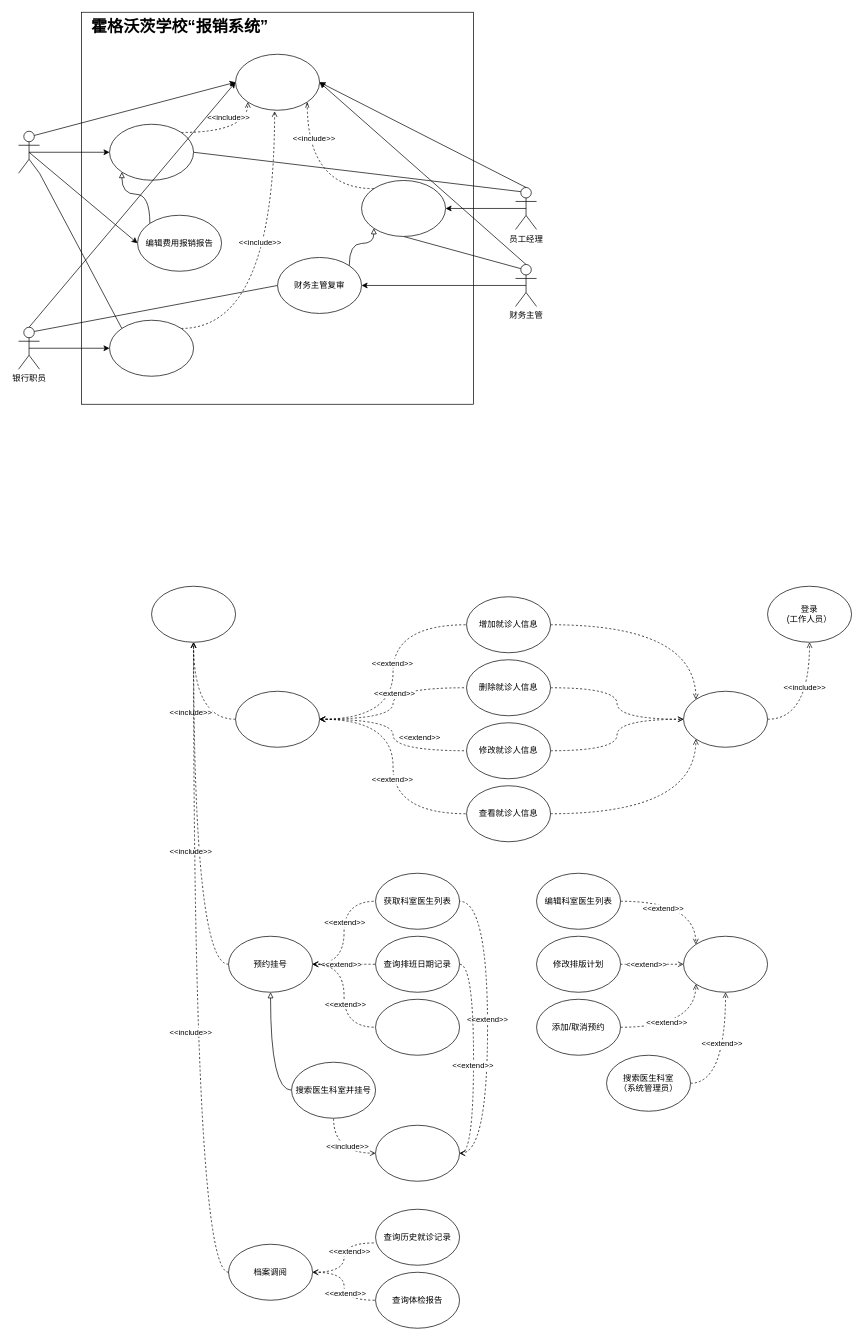
This 864x1341 diagram has some shape labels left out. Each missing label, with the centre of its shape:
"员工" goes at [29,152].
"审核报销报告" goes at [403,208].
"提交费用报销报告" goes at [151,152].
"提交预约医生事件" goes at [417,1027].
"搜索医生科室 （就诊人）" goes at [417,1153].
"登录 (就诊人）" goes at [193,614].
"登录系统" goes at [277,82].
"管理预约记录" goes at [725,964].
"编辑就诊人信息 （就诊人）" goes at [277,719].
"编辑就诊人信息 （系统管理员）" goes at [725,719].
"银行账户付款" goes at [151,348].
